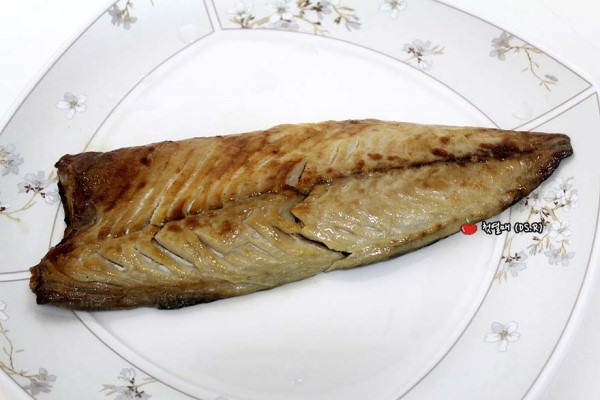godeung-eogu-i: (29, 119, 574, 311)
